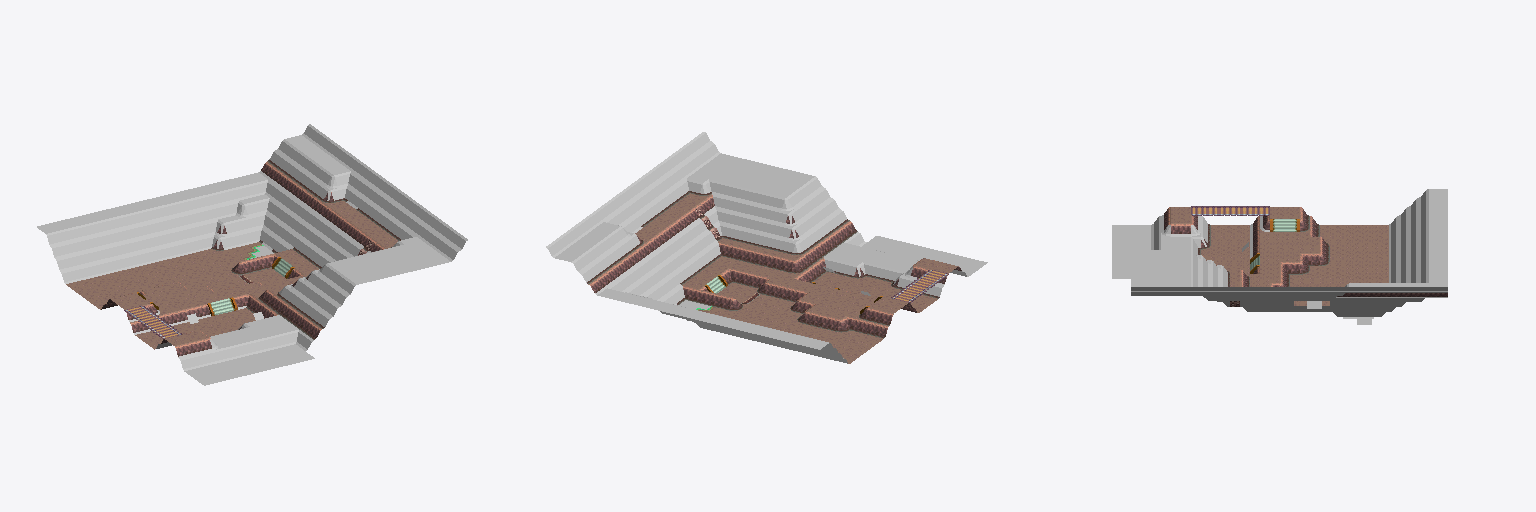
3 renders of one model, left to right at view 1: azimuth 30°, elevation 25°; view 2: azimuth 150°, elevation 25°; view 3: azimuth 270°, elevation 25°, orthographic.
Visible parts, largest first — view 1: polygon4, polygon0, polygon3, polygon5, polygon11, polygon7; view 2: polygon4, polygon0, polygon5, polygon3, polygon11; view 3: polygon4, polygon0, polygon3, polygon5, polygon11, polygon7.
Part boxes in pixels (x1,y1,x2,y2): polygon4: (46, 124, 467, 370); polygon0: (66, 201, 397, 349); polygon3: (37, 135, 450, 385); polygon5: (101, 160, 400, 356); polygon11: (124, 306, 181, 338); polygon7: (137, 257, 294, 315); polygon4: (546, 132, 966, 363); polygon0: (635, 193, 958, 363); polygon5: (587, 191, 961, 338); polygon3: (555, 153, 987, 349); polygon11: (891, 270, 948, 302); polygon4: (1131, 189, 1447, 316); polygon0: (1171, 207, 1388, 305); polygon3: (1112, 189, 1447, 286); polygon5: (1164, 207, 1447, 296); polygon11: (1191, 206, 1269, 215); polygon7: (1250, 219, 1299, 273).
Bounding box in the file's own units: 8.06 × 2.05 × 8.5.
13 materials, 8 textured.